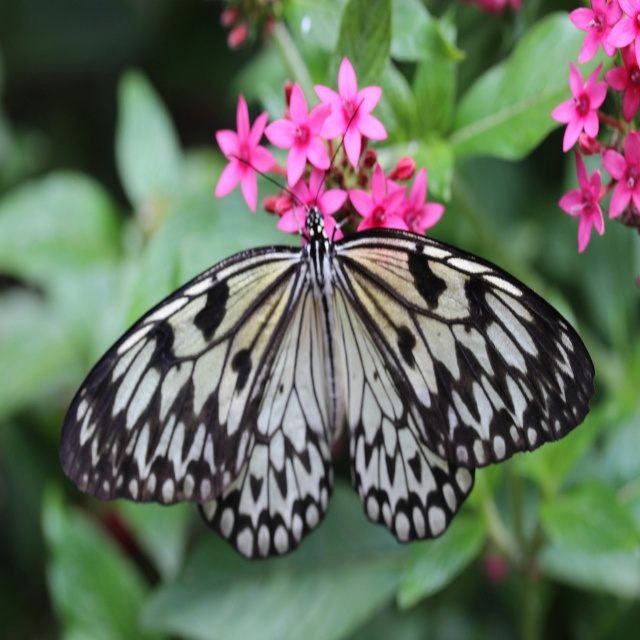Butterfly: (59, 98, 596, 562)
